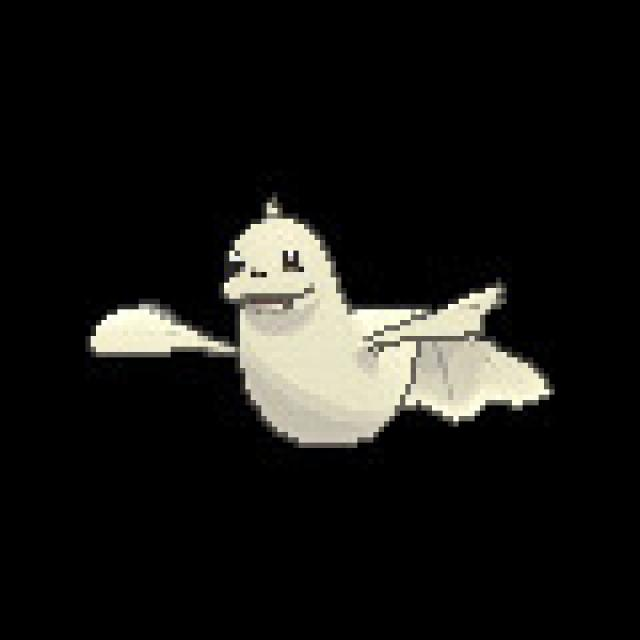Dewgong: (144, 196, 541, 454)
